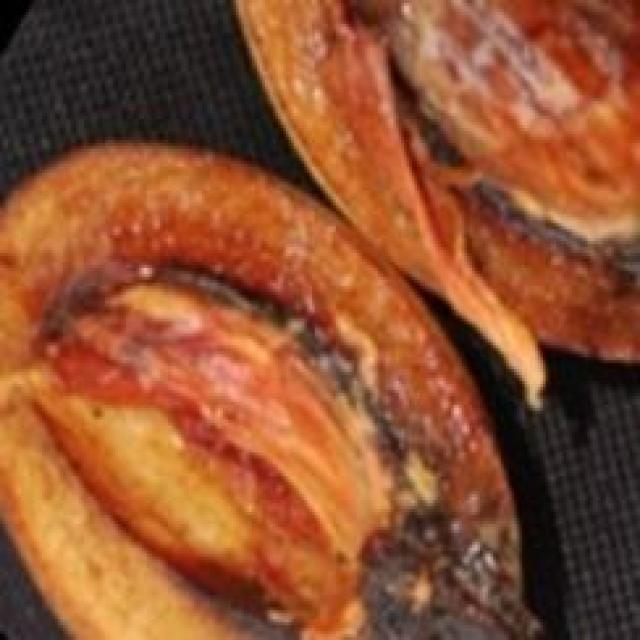damaged: (0, 146, 553, 637), (233, 0, 637, 369)
